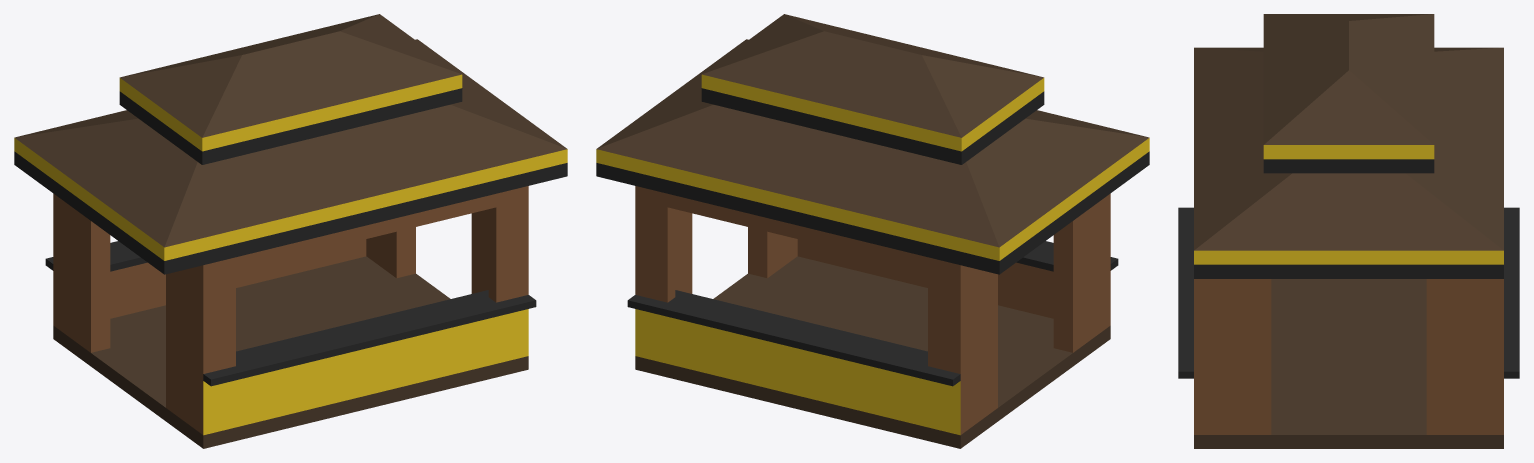
The model's file is buildings_bar-tropic.fbx.
The picture shows the model from 3 angles, left to right: view 1: azimuth 30°, elevation 25°; view 2: azimuth 150°, elevation 25°; view 3: azimuth 270°, elevation 25°; orthographic projection. The views are drawn at different scales.
Visible parts, largest first — view 1: buildings_bar_tropic; view 2: buildings_bar_tropic; view 3: buildings_bar_tropic.
Part boxes in pixels (x1=…): buildings_bar_tropic: x1=14, y1=14, x2=567, y2=448; buildings_bar_tropic: x1=596, y1=14, x2=1149, y2=448; buildings_bar_tropic: x1=1178, y1=14, x2=1519, y2=448.
Size of the model in its own units: 200 by 147 by 142.
